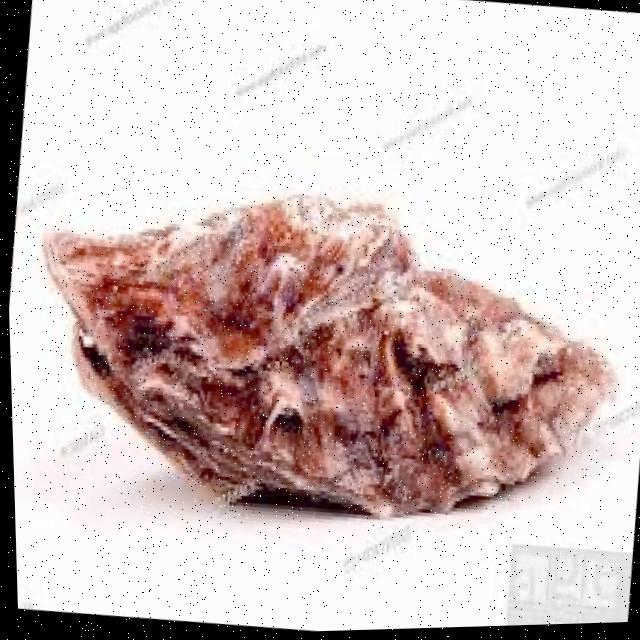Oyster-Open: (43, 194, 614, 516)
